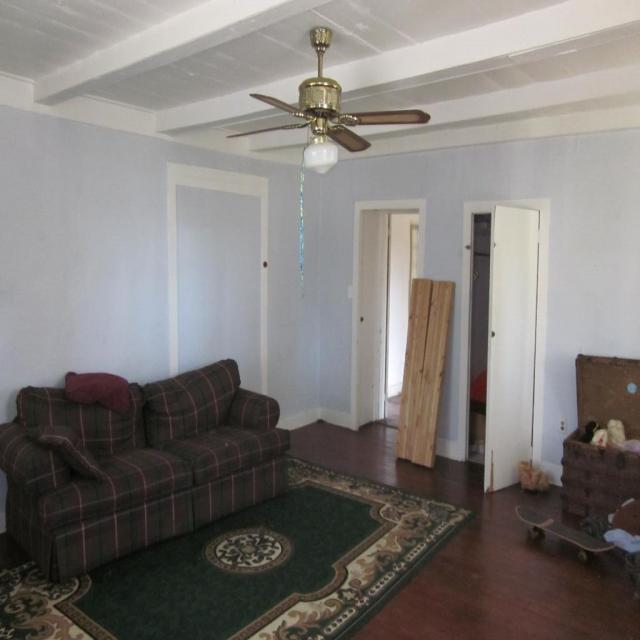Bulb: (226, 29, 429, 176)
